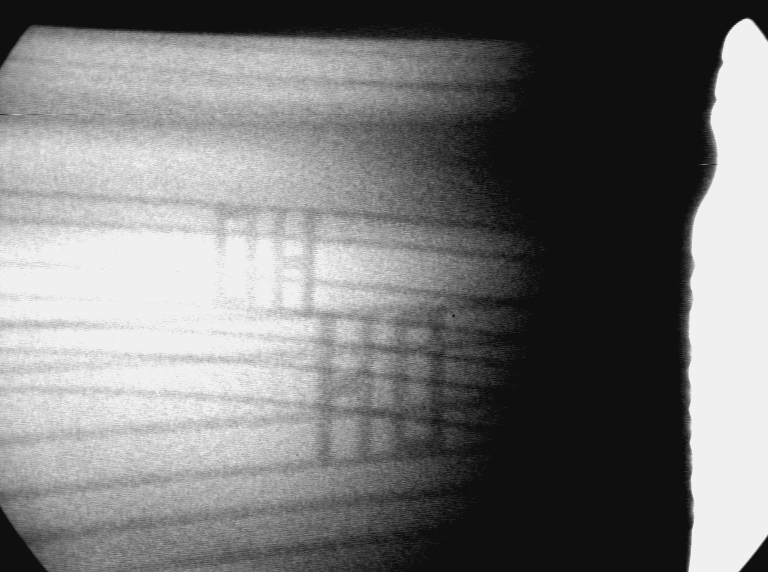defect: (310, 305, 450, 474)
